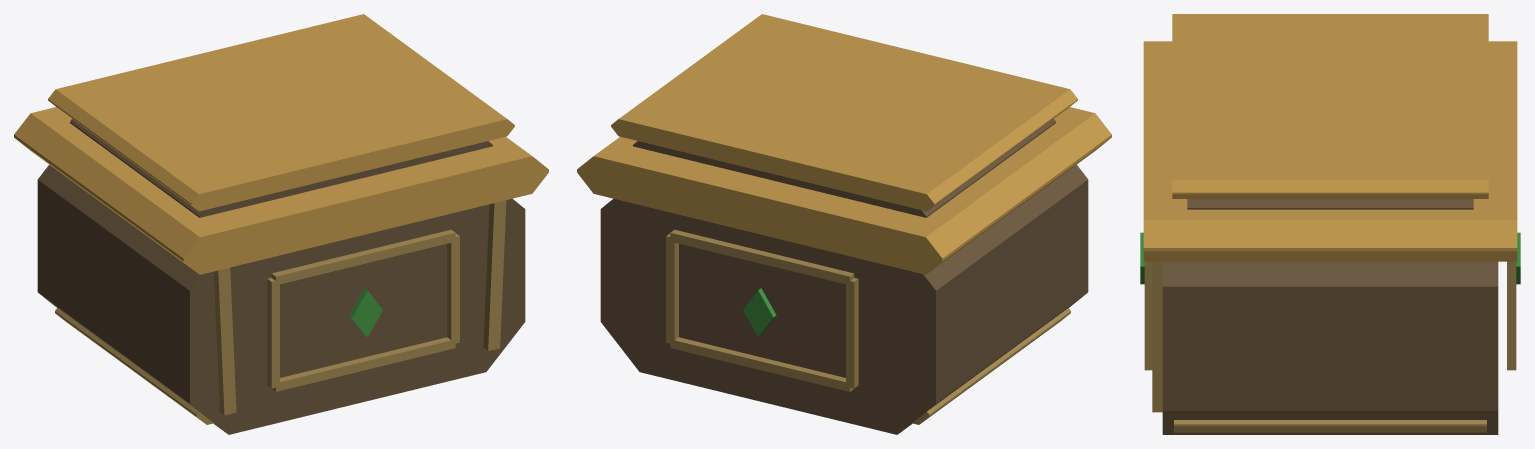
Rendered from square_belly.obj.
3 views of the same model, side by side, from view 1: azimuth 30°, elevation 25°; view 2: azimuth 150°, elevation 25°; view 3: azimuth 270°, elevation 25° (orthographic). The views are drawn at different scales.
Parts seen in each view (by area): view 1: square_mouth_ridge_edge, square_belly, square_belly_edge, square_shoulder_edge, square_shoulder, square_mouth_ridge, square_neck, square_corner_0.44, square_corner_-0.44, square_panel_00_bottom, square_panel_00_top, square_lower_band_edge (+9 smaller); view 2: square_belly, square_mouth_ridge_edge, square_belly_edge, square_shoulder_edge, square_shoulder, square_mouth_ridge, square_neck, square_panel_02_top, square_panel_02_bottom, square_lower_band_edge, square_panel_02_right, square_panel_02_left (+5 smaller); view 3: square_mouth_ridge_edge, square_belly_edge, square_shoulder_edge, square_lower_band_edge, square_neck_edge, square_corner_0.44_edge, square_panel_02_left_edge, square_panel_00_right_edge.
Part boxes in pixels (left/top/right/bottom): square_mouth_ridge_edge: left=48, top=14, right=506, bottom=209; square_belly: left=190, top=198, right=525, bottom=434; square_belly_edge: left=37, top=164, right=226, bottom=433; square_shoulder_edge: left=14, top=107, right=531, bottom=272; square_shoulder: left=183, top=156, right=548, bottom=274; square_mouth_ridge: left=191, top=119, right=514, bottom=211; square_neck: left=199, top=141, right=492, bottom=217; square_corner_0.44: left=488, top=200, right=506, bottom=350; square_corner_-0.44: left=218, top=267, right=236, bottom=415; square_panel_00_bottom: left=276, top=339, right=455, bottom=391; square_panel_00_top: left=276, top=233, right=455, bottom=285; square_lower_band_edge: left=55, top=308, right=203, bottom=422; square_belly: left=600, top=198, right=935, bottom=434; square_mouth_ridge_edge: left=619, top=14, right=1077, bottom=209; square_belly_edge: left=899, top=164, right=1088, bottom=433; square_shoulder_edge: left=594, top=107, right=1111, bottom=272; square_shoulder: left=577, top=156, right=942, bottom=274; square_mouth_ridge: left=611, top=119, right=934, bottom=211; square_neck: left=633, top=141, right=926, bottom=217; square_panel_02_top: left=670, top=233, right=849, bottom=285; square_panel_02_bottom: left=670, top=340, right=849, bottom=391; square_lower_band_edge: left=922, top=308, right=1070, bottom=422; square_panel_02_right: left=846, top=280, right=854, bottom=388; square_panel_02_left: left=666, top=236, right=674, bottom=344; square_mouth_ridge_edge: left=1172, top=14, right=1488, bottom=198; square_belly_edge: left=1162, top=261, right=1498, bottom=434; square_shoulder_edge: left=1143, top=41, right=1517, bottom=261; square_lower_band_edge: left=1174, top=420, right=1486, bottom=432; square_neck_edge: left=1187, top=199, right=1473, bottom=209; square_corner_0.44_edge: left=1152, top=261, right=1162, bottom=412; square_panel_02_left_edge: left=1507, top=261, right=1516, bottom=367; square_panel_00_right_edge: left=1144, top=261, right=1152, bottom=367.
Bounding box in the file's own units: 1.22 × 0.7775 × 0.998.
